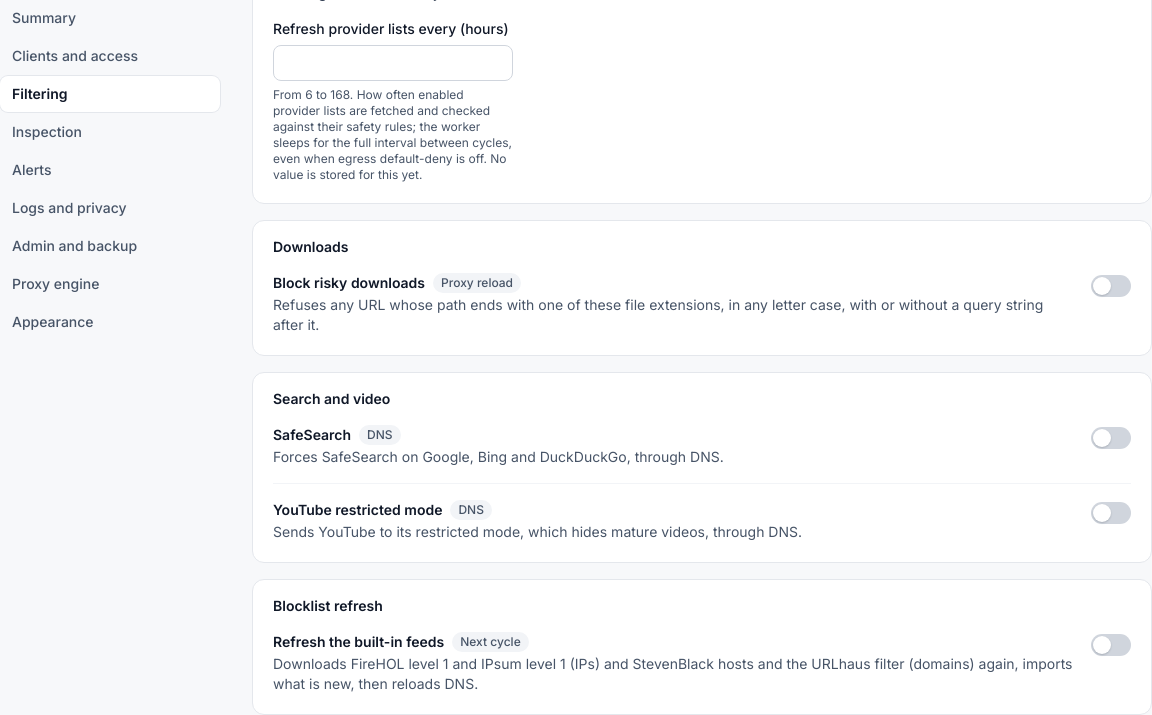
it: Settings sections › Filtering › a DNS-only change does not reload the proxy and says where it takes effect
(page scrolled)
Click the 2nd switch named "SafeSearch": (1111, 438) x1=1091 y1=426 x2=1131 y2=448
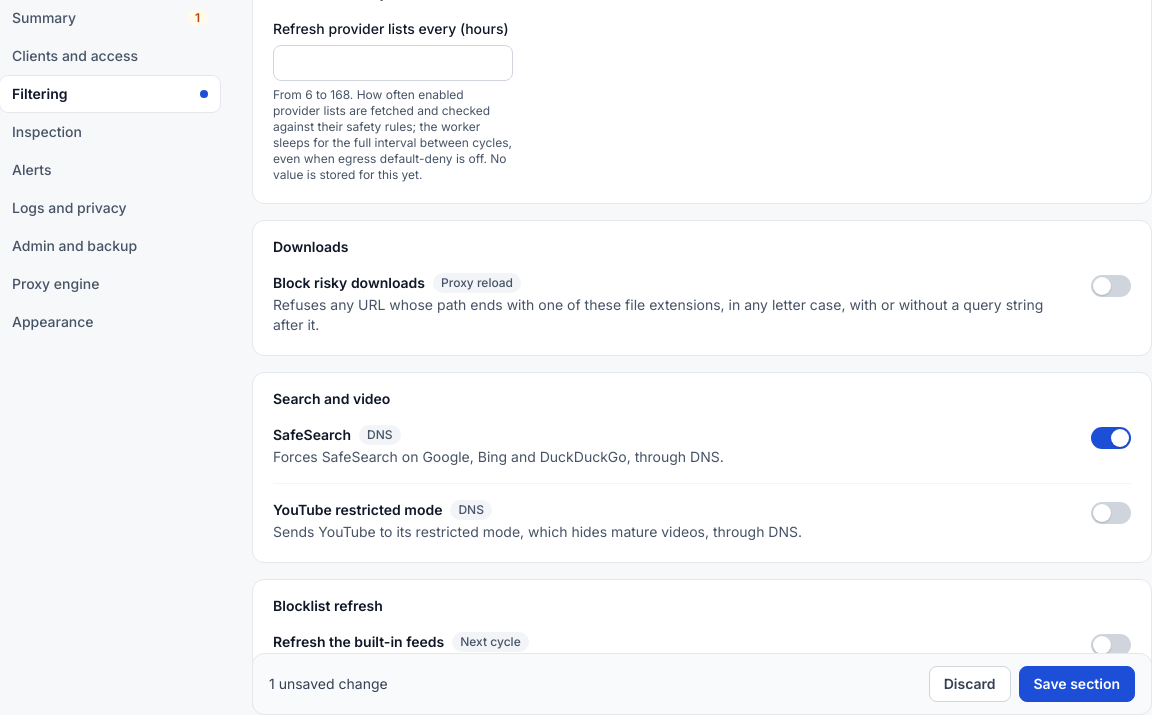
Click the button "Save section": (1077, 684) x1=1018 y1=666 x2=1135 y2=702
(page scrolled)
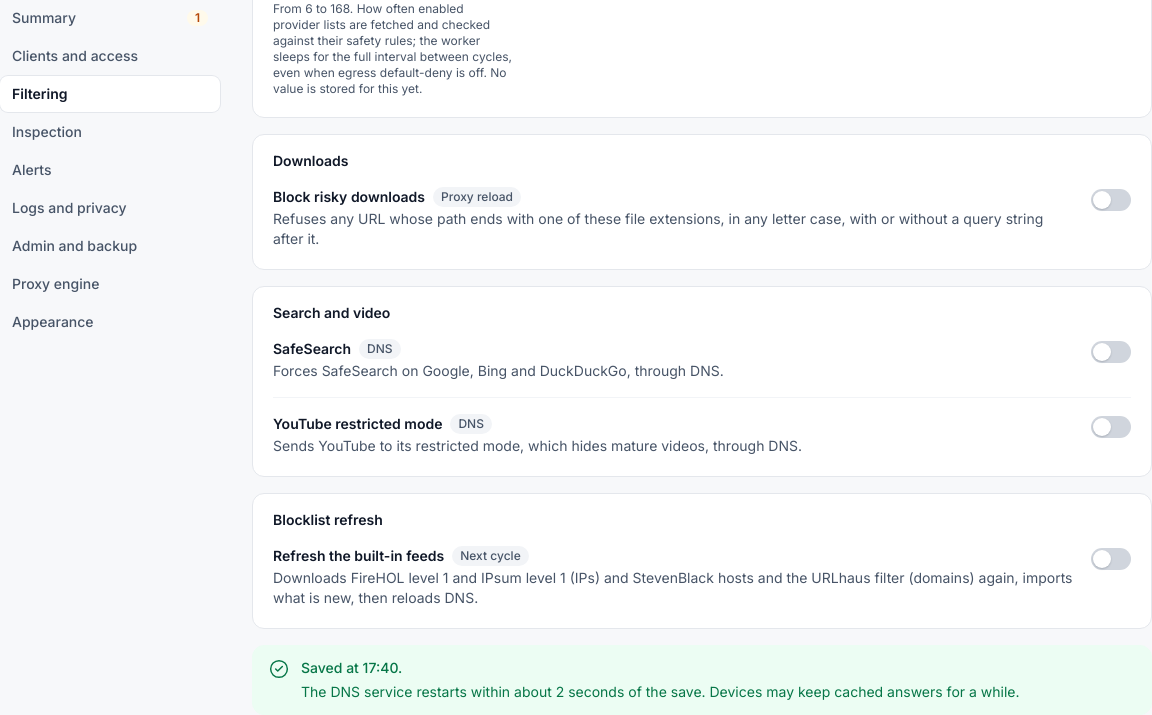
Now the text "Saved at 17:40." is shown, box x1=301 y1=658 x2=402 y2=676
Now the text "The DNS service restarts within about 2 seconds of the save. Devices may keep cached answers for a while." is shown, box x1=301 y1=682 x2=1020 y2=700
